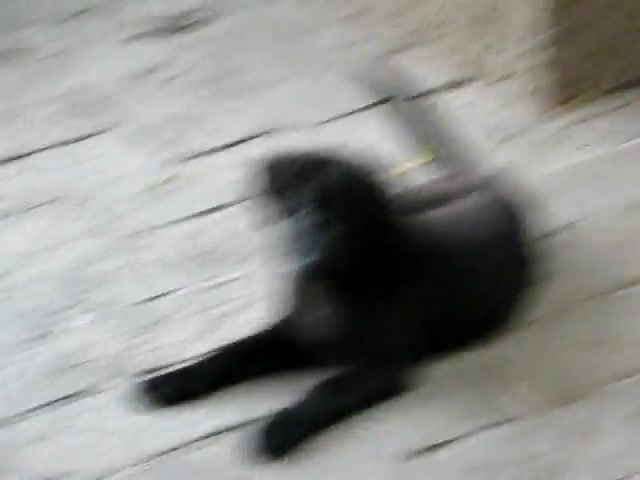dog: (141, 63, 537, 464)
